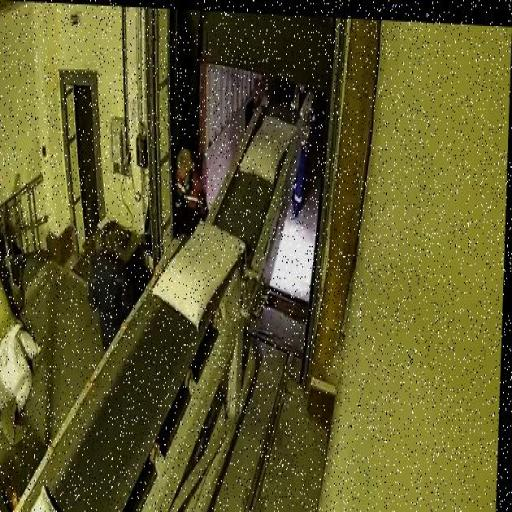c-belt-sack-count: (154, 223, 244, 328), (241, 116, 295, 184)
